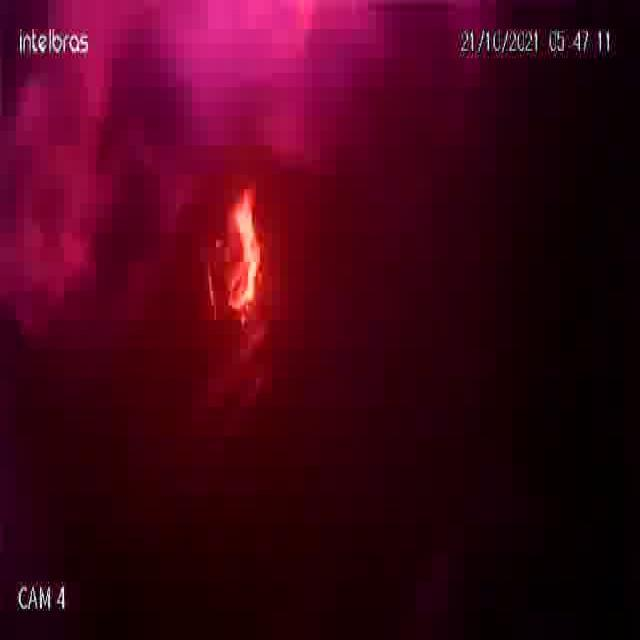Fire: (164, 117, 297, 406)
